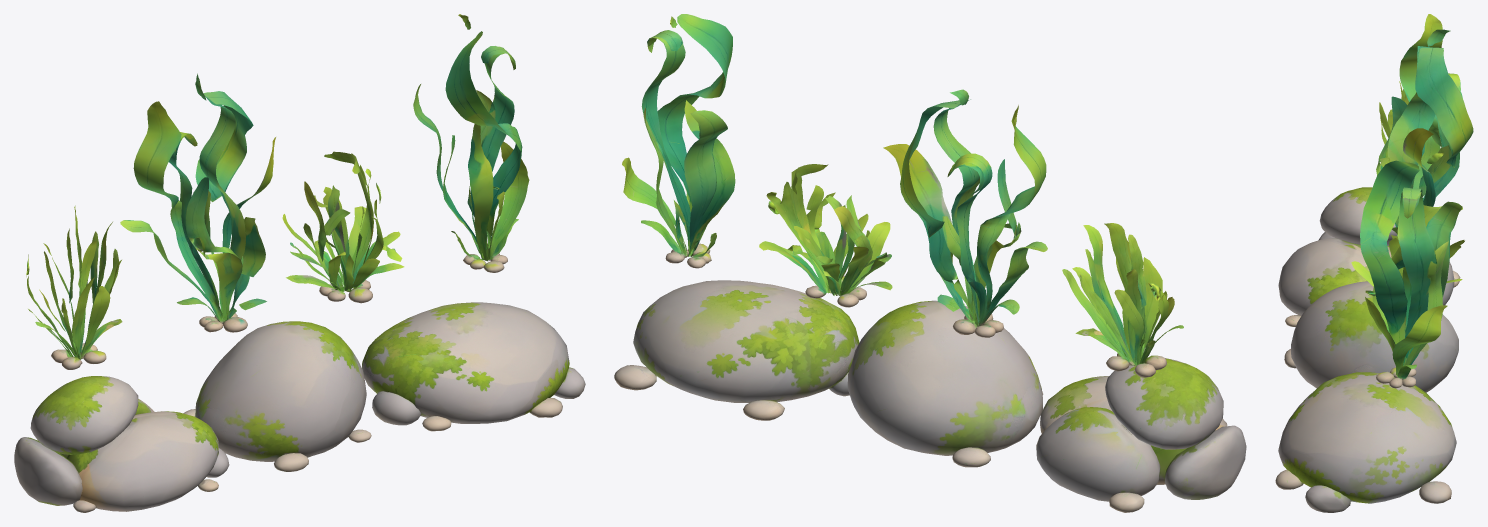
File: elem_acuatico.glb
3 renders of one model, left to right at view 1: azimuth 30°, elevation 25°; view 2: azimuth 150°, elevation 25°; view 3: azimuth 270°, elevation 25°, orthographic. The views are drawn at different scales.
Bounding box in the file's own units: 1 × 0.6433 × 0.3364.
1 material, 1 textured.
